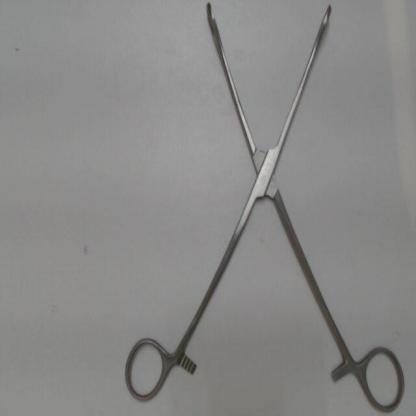Sponge Forceps: (121, 0, 411, 412)
